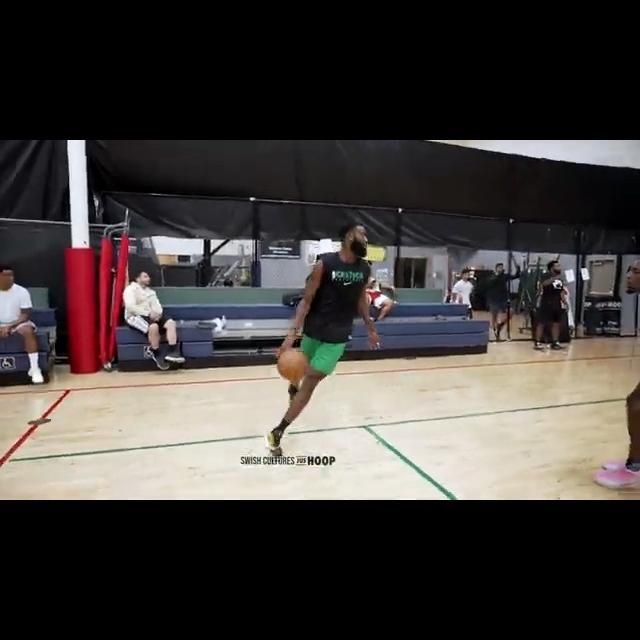basketball: (276, 350, 309, 382)
